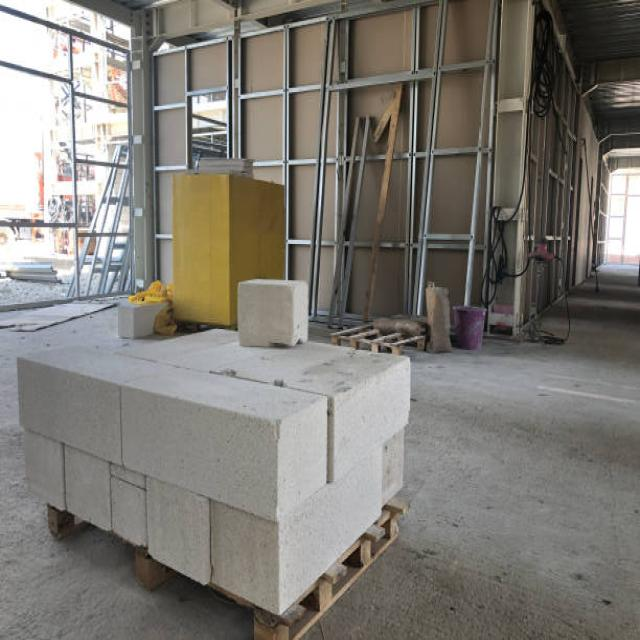Wooden-Pallets: (249, 497, 404, 640)
